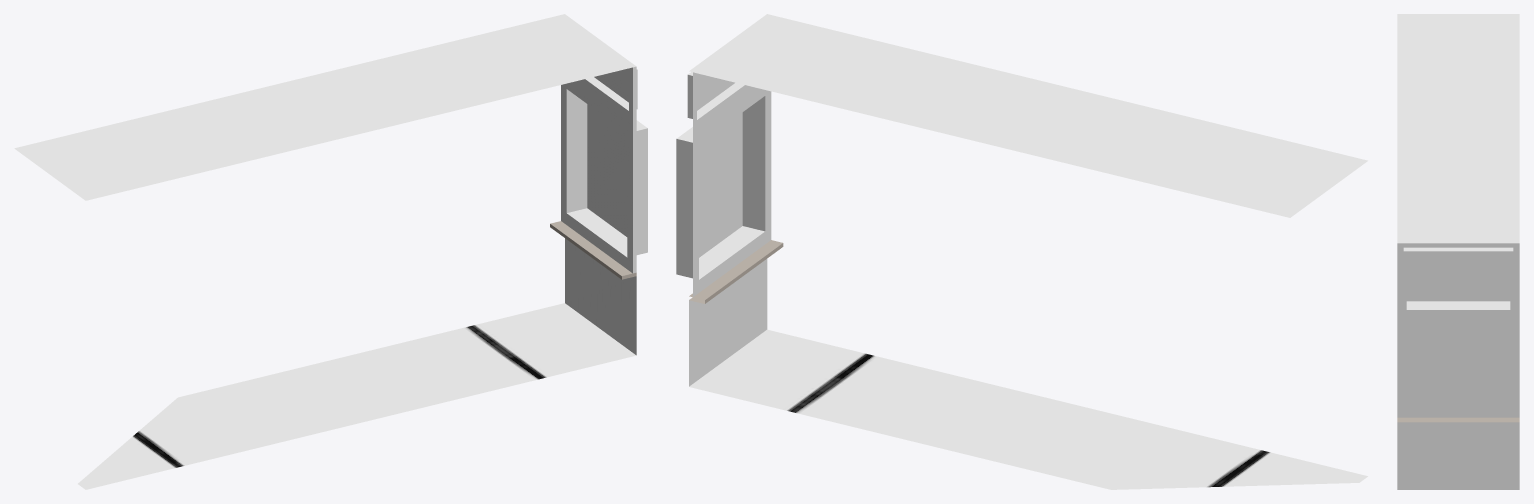
Rendered from WALL_CorridorWindows_Clean (5).fbx.
3 views of the same model, side by side, from view 1: azimuth 30°, elevation 25°; view 2: azimuth 150°, elevation 25°; view 3: azimuth 270°, elevation 25° (orthographic). The views are drawn at different scales.
Visible parts, largest first — view 1: WALL_CorridorWindows_Clean__5_; view 2: WALL_CorridorWindows_Clean__5_; view 3: WALL_CorridorWindows_Clean__5_.
Boxes of the visible parts, x1,y1,x2,y2 form: WALL_CorridorWindows_Clean__5_: (14, 14, 647, 489); WALL_CorridorWindows_Clean__5_: (676, 14, 1367, 489); WALL_CorridorWindows_Clean__5_: (1397, 14, 1519, 489).
Size of the model in its own units: 944 by 459 by 207.
